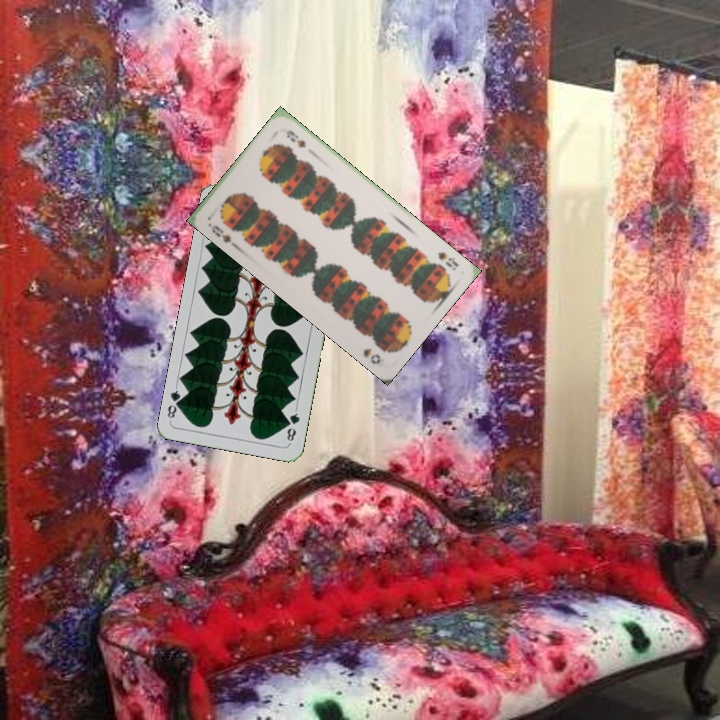G8: (283, 405, 302, 446)
S8: (433, 248, 461, 273), (207, 221, 234, 245)
